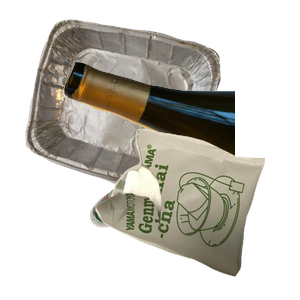glass: (60, 59, 300, 231)
metal: (23, 17, 236, 197)
plastic: (88, 182, 242, 300)
trash: (93, 126, 300, 300)
